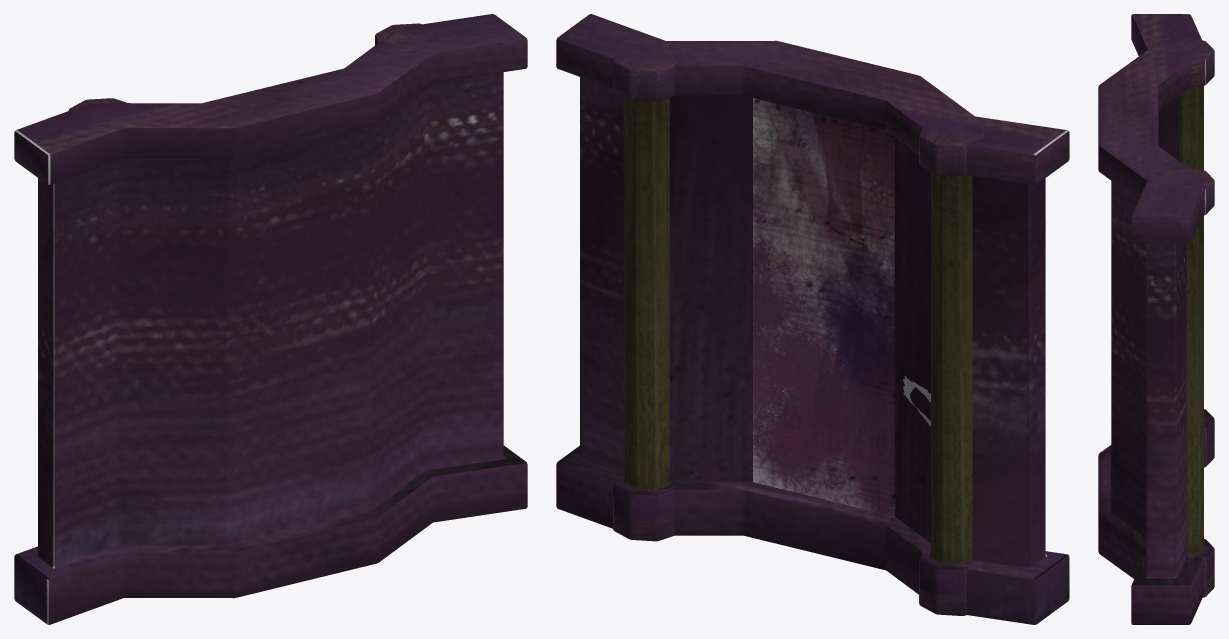
File: MANOR_WALL_3_002.obj
3 renders of one model, left to right at view 1: azimuth 30°, elevation 25°; view 2: azimuth 150°, elevation 25°; view 3: azimuth 270°, elevation 25°, orthographic. The views are drawn at different scales.
Visible parts, largest first — view 1: MANOR_WALL_3_002; view 2: MANOR_WALL_3_002; view 3: MANOR_WALL_3_002.
Boxes of the visible parts, x1,y1,x2,y2 form: MANOR_WALL_3_002: (14, 14, 527, 624); MANOR_WALL_3_002: (556, 14, 1069, 624); MANOR_WALL_3_002: (1098, 14, 1214, 624).
Size of the model in its own units: 3.2 by 3 by 0.7727.
